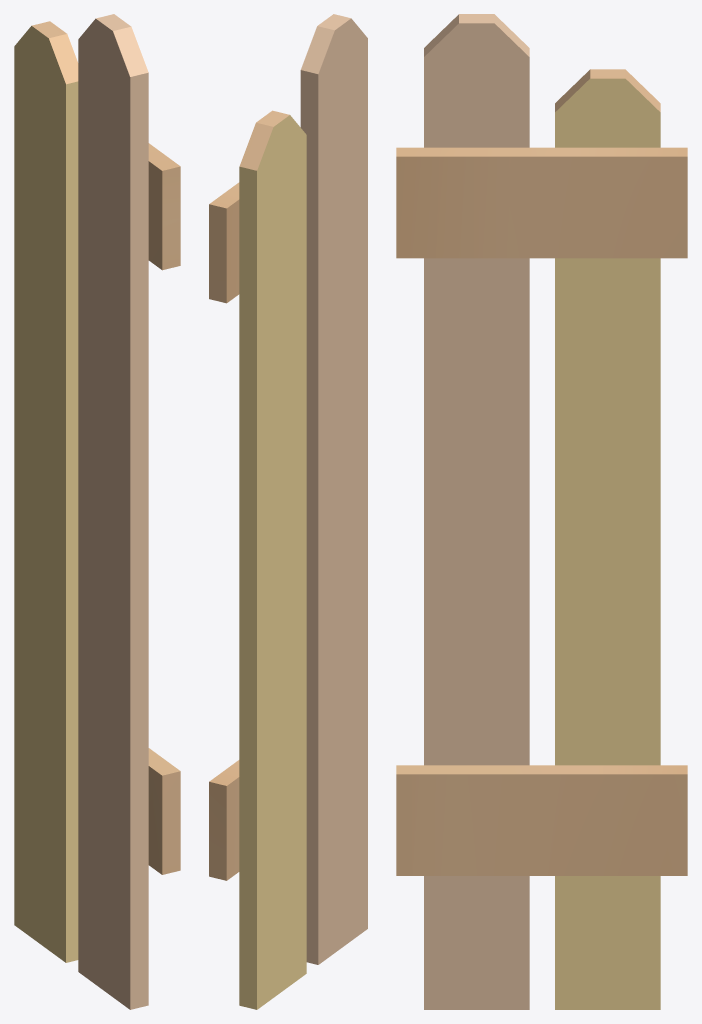
File: FenceSmall_Modular.fbx
3 views of the same model, side by side, from view 1: azimuth 30°, elevation 25°; view 2: azimuth 150°, elevation 25°; view 3: azimuth 270°, elevation 25° (orthographic). The views are drawn at different scales.
Parts seen in each view (by area): view 1: FenceSmall_Modular; view 2: FenceSmall_Modular; view 3: FenceSmall_Modular.
Part boxes in pixels (x1,y1,x2,y2): FenceSmall_Modular: (14,14,180,1009); FenceSmall_Modular: (209,14,367,1009); FenceSmall_Modular: (396,14,687,1009).
Bounding box in the file's own units: 7 × 175 × 46.81.
